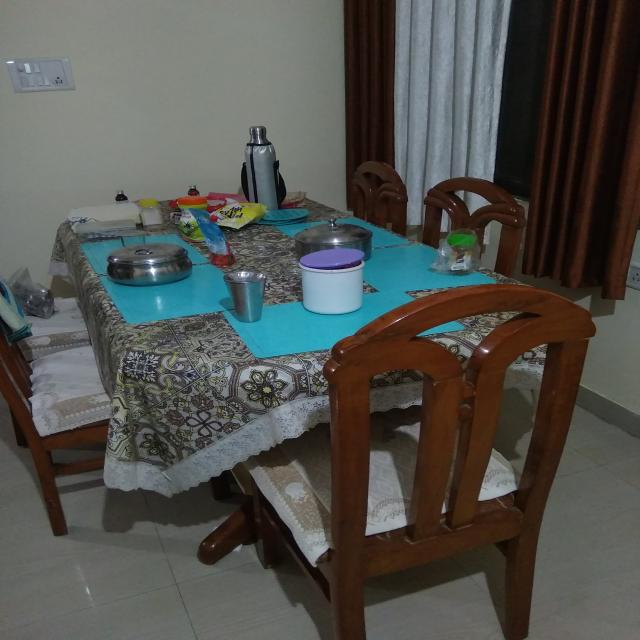bottle: (241, 125, 284, 217)
chair: (234, 284, 613, 640)
glass: (223, 271, 270, 322)
